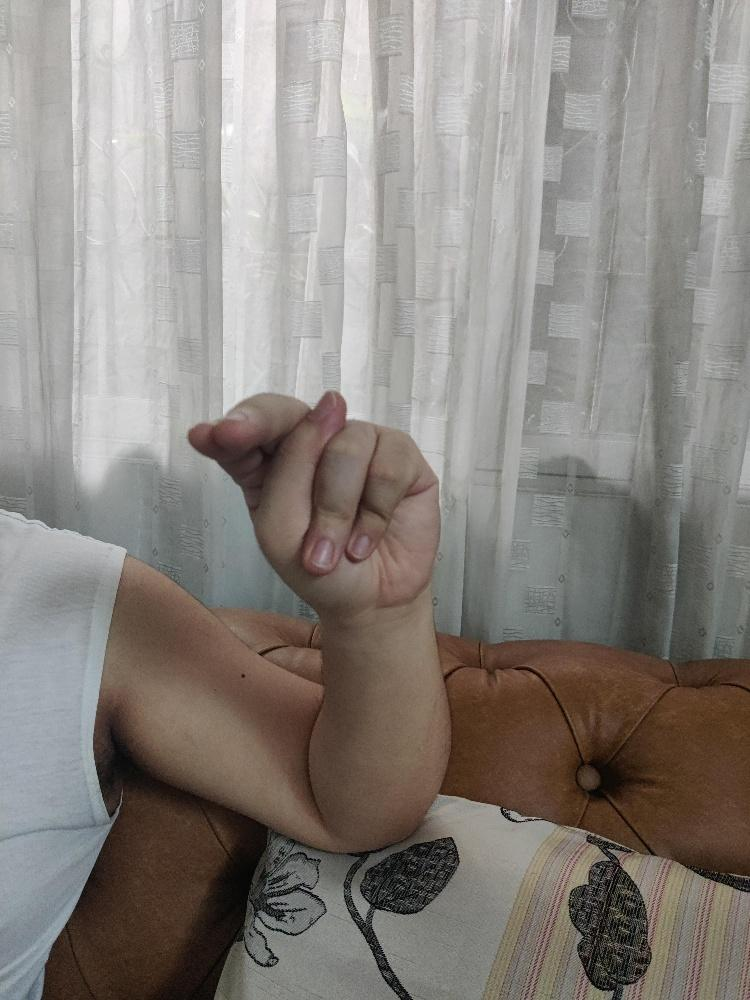n: (185, 386, 443, 614)
